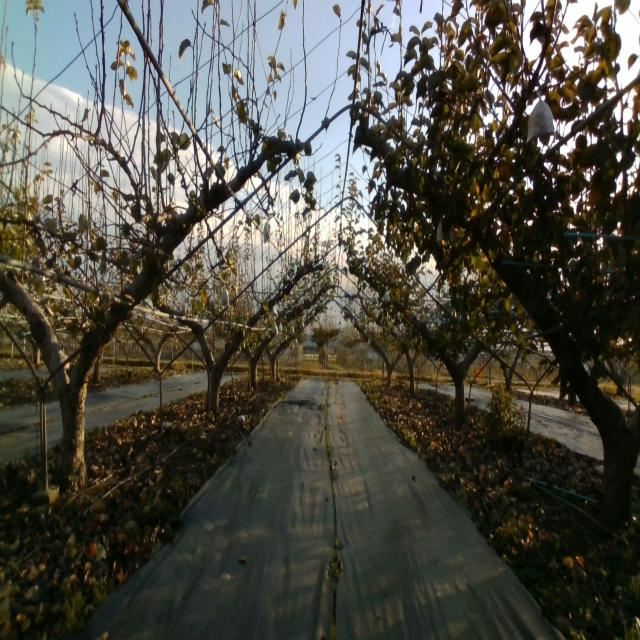pearbags: (526, 89, 556, 144), (219, 284, 230, 306)
